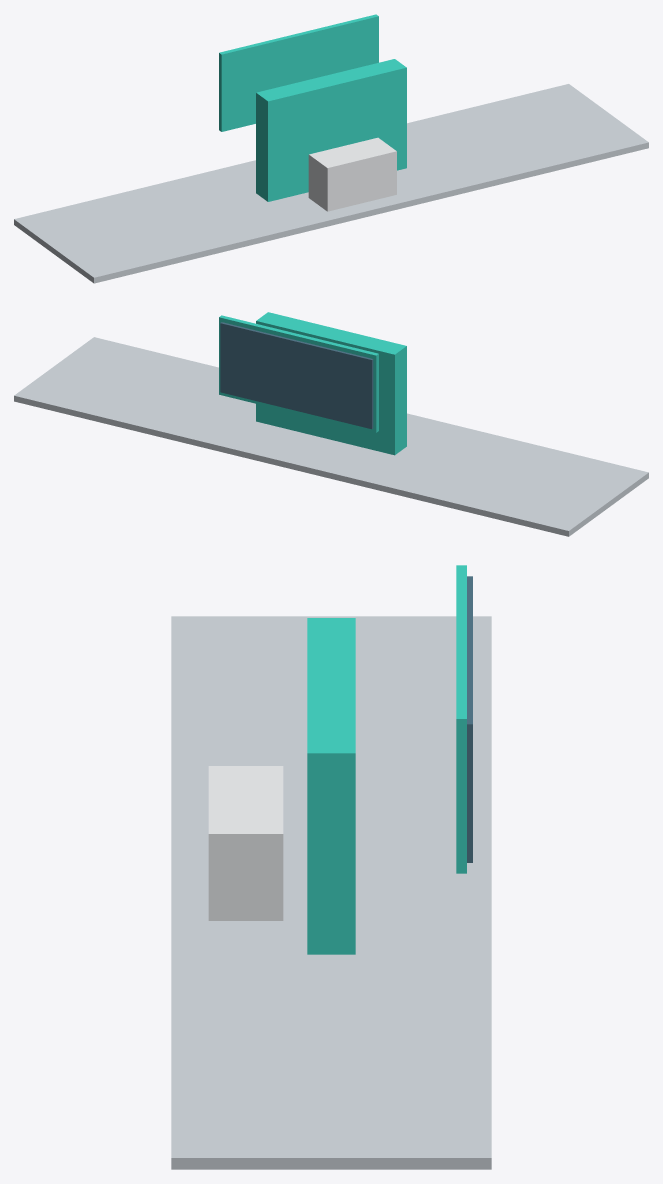
3 views of the same model, one above another, from view 1: azimuth 30°, elevation 25°; view 2: azimuth 150°, elevation 25°; view 3: azimuth 270°, elevation 25° (orthographic). The views are drawn at different scales.
Parts seen in each view (by area): view 1: Exhibition Booth Concept; view 2: Exhibition Booth Concept; view 3: Exhibition Booth Concept.
Part boxes in pixels (left/top/right/bottom): Exhibition Booth Concept: left=14, top=14, right=648, bottom=283; Exhibition Booth Concept: left=14, top=312, right=648, bottom=536; Exhibition Booth Concept: left=171, top=565, right=491, bottom=1169.
Bounding box in the file's own units: 12 × 2.65 × 3.
